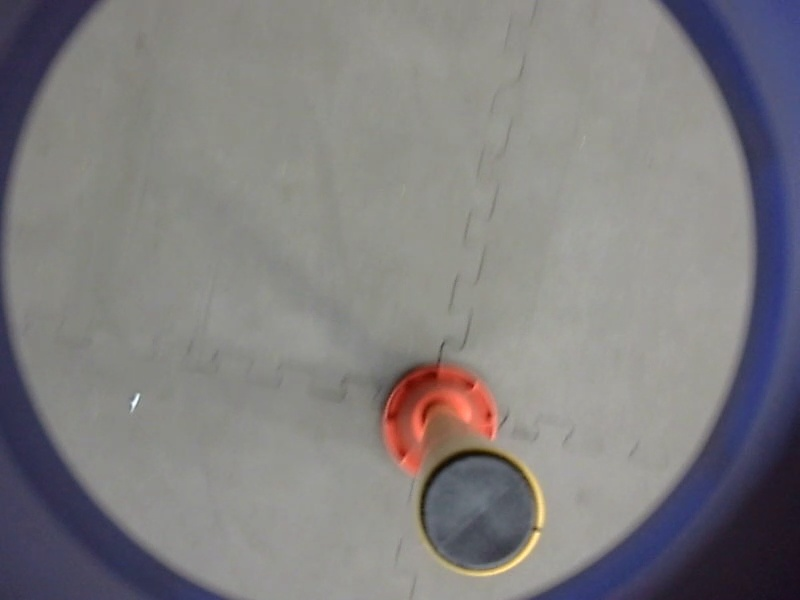tip: (409, 442, 551, 584)
